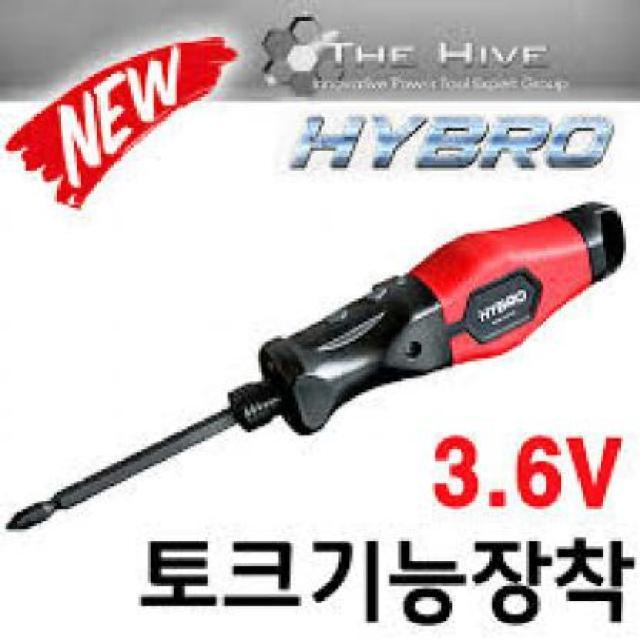screwdriver: (11, 196, 628, 532)
